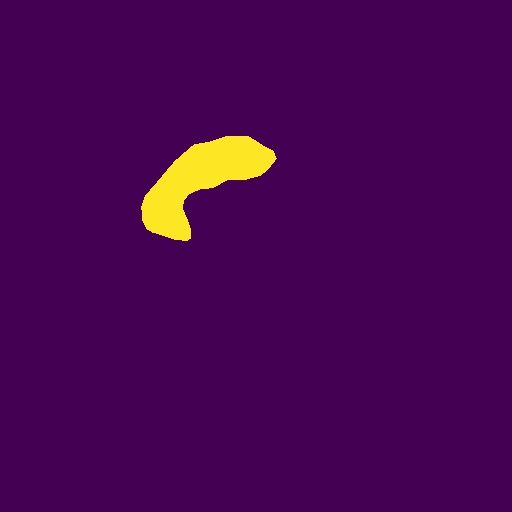Gliomia_tumour: (141, 136, 277, 241)
